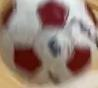Sports-Ball: (5, 2, 90, 79)
